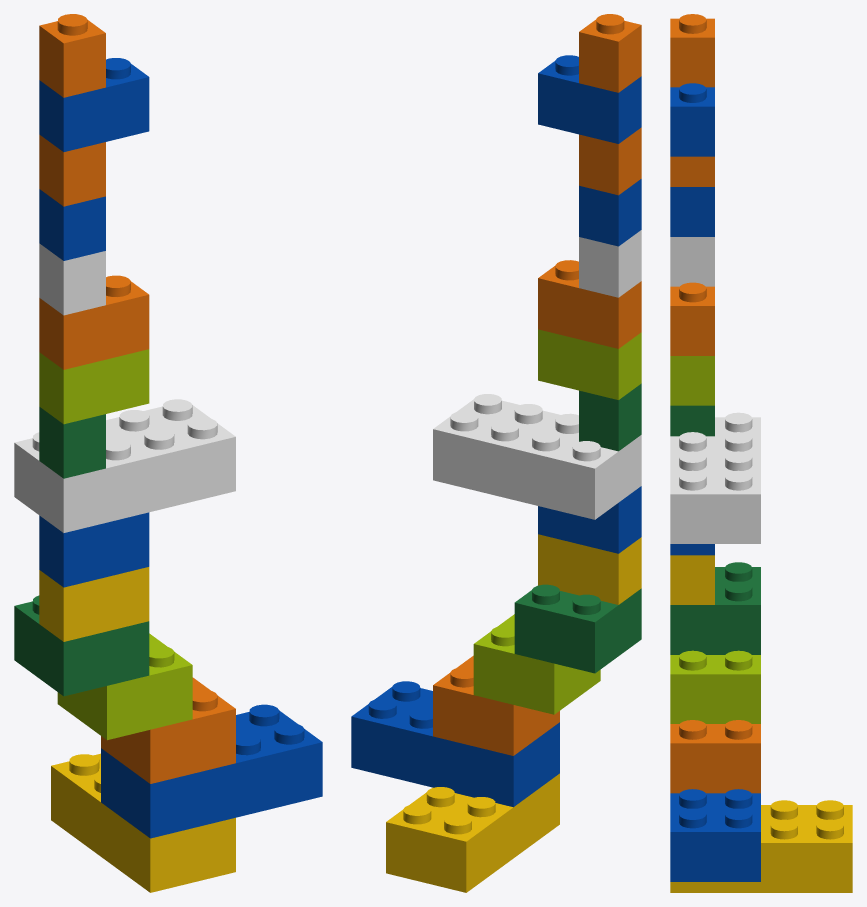
Rendered from best_tower.glb.
The picture shows the model from 3 angles, left to right: view 1: azimuth 30°, elevation 25°; view 2: azimuth 150°, elevation 25°; view 3: azimuth 270°, elevation 25°; orthographic projection. The views are drawn at different scales.
Parts seen in each view (by area): view 1: brick_007_brick_2x4, brick_001_brick_2x4, brick_000_brick_2x4, brick_004_brick_2x2, brick_003_brick_2x2, brick_002_brick_2x2, brick_010_brick_1x2, brick_014_brick_1x2, brick_006_brick_1x2, brick_009_brick_1x2, brick_005_brick_1x2, brick_015_brick_1x1 (+4 smaller); view 2: brick_007_brick_2x4, brick_001_brick_2x4, brick_000_brick_2x4, brick_004_brick_2x2, brick_003_brick_2x2, brick_002_brick_2x2, brick_014_brick_1x2, brick_010_brick_1x2, brick_009_brick_1x2, brick_005_brick_1x2, brick_015_brick_1x1, brick_006_brick_1x2 (+4 smaller); view 3: brick_007_brick_2x4, brick_000_brick_2x4, brick_001_brick_2x4, brick_002_brick_2x2, brick_003_brick_2x2, brick_004_brick_2x2, brick_014_brick_1x2, brick_010_brick_1x2, brick_015_brick_1x1, brick_005_brick_1x2, brick_009_brick_1x2, brick_012_brick_1x1 (+4 smaller).
Boxes of the visible parts, bbox=[...] form: brick_007_brick_2x4: bbox=[14, 399, 235, 532]; brick_001_brick_2x4: bbox=[101, 704, 322, 838]; brick_000_brick_2x4: bbox=[51, 753, 235, 892]; brick_004_brick_2x2: bbox=[14, 595, 149, 696]; brick_003_brick_2x2: bbox=[57, 633, 192, 740]; brick_002_brick_2x2: bbox=[101, 677, 235, 783]; brick_010_brick_1x2: bbox=[39, 275, 149, 369]; brick_014_brick_1x2: bbox=[39, 58, 149, 151]; brick_006_brick_1x2: bbox=[39, 512, 149, 587]; brick_009_brick_1x2: bbox=[39, 349, 149, 424]; brick_005_brick_1x2: bbox=[39, 567, 149, 641]; brick_015_brick_1x1: bbox=[39, 14, 105, 97]; brick_007_brick_2x4: bbox=[433, 394, 641, 519]; brick_001_brick_2x4: bbox=[351, 681, 559, 807]; brick_000_brick_2x4: bbox=[386, 773, 559, 892]; brick_004_brick_2x2: bbox=[514, 584, 641, 673]; brick_003_brick_2x2: bbox=[473, 614, 600, 714]; brick_002_brick_2x2: bbox=[433, 655, 559, 755]; brick_014_brick_1x2: bbox=[538, 55, 641, 143]; brick_010_brick_1x2: bbox=[538, 260, 641, 348]; brick_009_brick_1x2: bbox=[538, 329, 641, 399]; brick_005_brick_1x2: bbox=[538, 534, 641, 604]; brick_015_brick_1x1: bbox=[579, 14, 641, 92]; brick_006_brick_1x2: bbox=[538, 486, 641, 553]; brick_007_brick_2x4: bbox=[670, 412, 760, 543]; brick_000_brick_2x4: bbox=[670, 800, 852, 892]; brick_001_brick_2x4: bbox=[670, 789, 760, 881]; brick_002_brick_2x2: bbox=[670, 720, 760, 793]; brick_003_brick_2x2: bbox=[670, 650, 760, 723]; brick_004_brick_2x2: bbox=[670, 562, 760, 654]; brick_014_brick_1x2: bbox=[670, 83, 714, 156]; brick_010_brick_1x2: bbox=[670, 282, 714, 355]; brick_015_brick_1x1: bbox=[670, 14, 714, 87]; brick_005_brick_1x2: bbox=[670, 555, 714, 604]; brick_009_brick_1x2: bbox=[670, 356, 714, 405]; brick_012_brick_1x1: bbox=[670, 187, 714, 236].
Bounding box in the file's own units: 0.0478 × 0.1552 × 0.0318.
